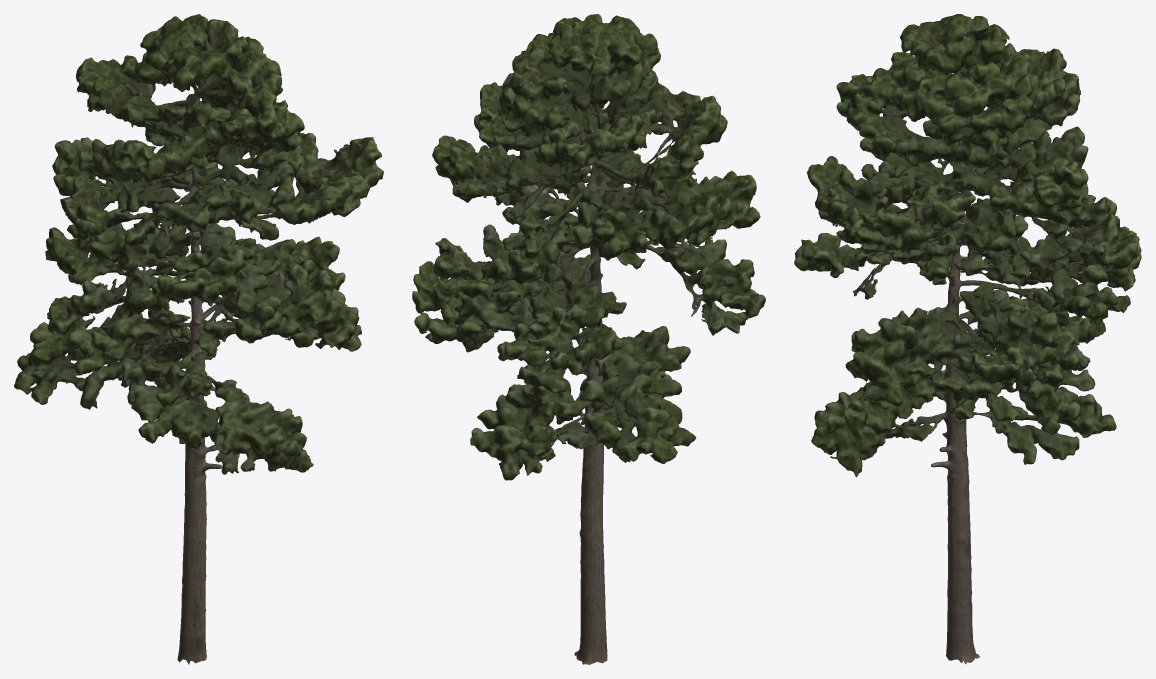
Rendered from pinev2.fbx.
3 views of the same model, side by side, from view 1: azimuth 30°, elevation 25°; view 2: azimuth 150°, elevation 25°; view 3: azimuth 270°, elevation 25° (orthographic).
Parts seen in each view (by area): view 1: mesh_node; view 2: mesh_node; view 3: mesh_node.
Part boxes in pixels (left/top/right/bottom): mesh_node: left=14, top=14, right=383, bottom=664; mesh_node: left=412, top=14, right=765, bottom=664; mesh_node: left=794, top=14, right=1141, bottom=664.
Size of the model in its own units: 941 by 1828 by 899.
